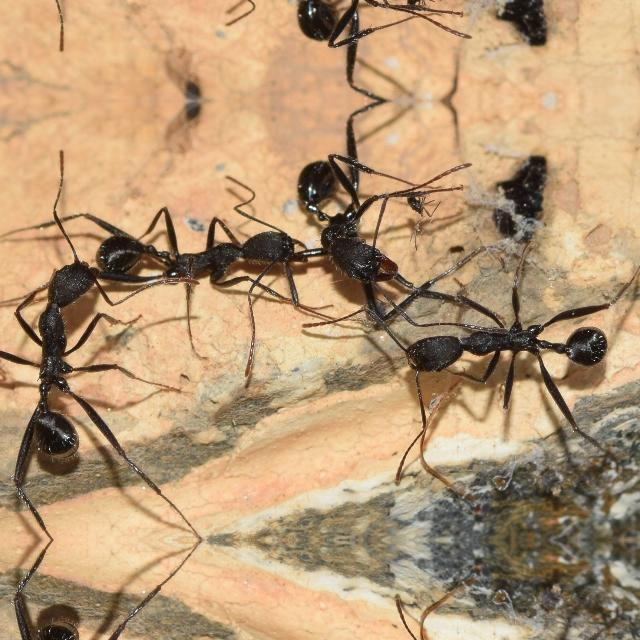Apheanogaster: (0, 194, 150, 498), (41, 199, 319, 317), (378, 294, 626, 400), (265, 143, 417, 297), (265, 0, 417, 56)
